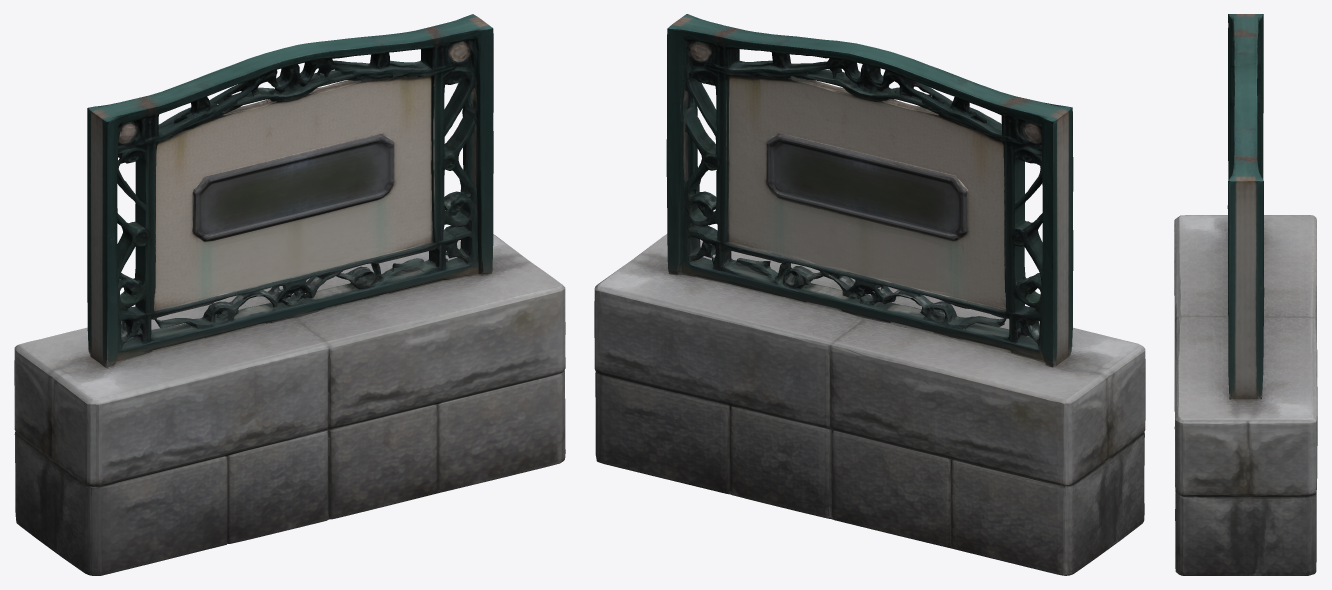
File: town_sign.glb
The picture shows the model from 3 angles, left to right: view 1: azimuth 30°, elevation 25°; view 2: azimuth 150°, elevation 25°; view 3: azimuth 270°, elevation 25°; orthographic projection. The views are drawn at different scales.
Visible parts, largest first — view 1: world; view 2: world; view 3: world.
Boxes of the visible parts, x1,y1,x2,y2 form: world: (14,14,565,575); world: (594,14,1145,575); world: (1174,14,1317,575).
Bounding box in the file's own units: 0.9962 × 0.8701 × 0.2901.
Materials: 1 (1 with a texture image).
